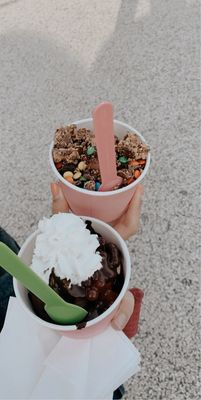salad: (0, 243, 89, 326)
sushi: (3, 213, 133, 335), (47, 101, 155, 237)
